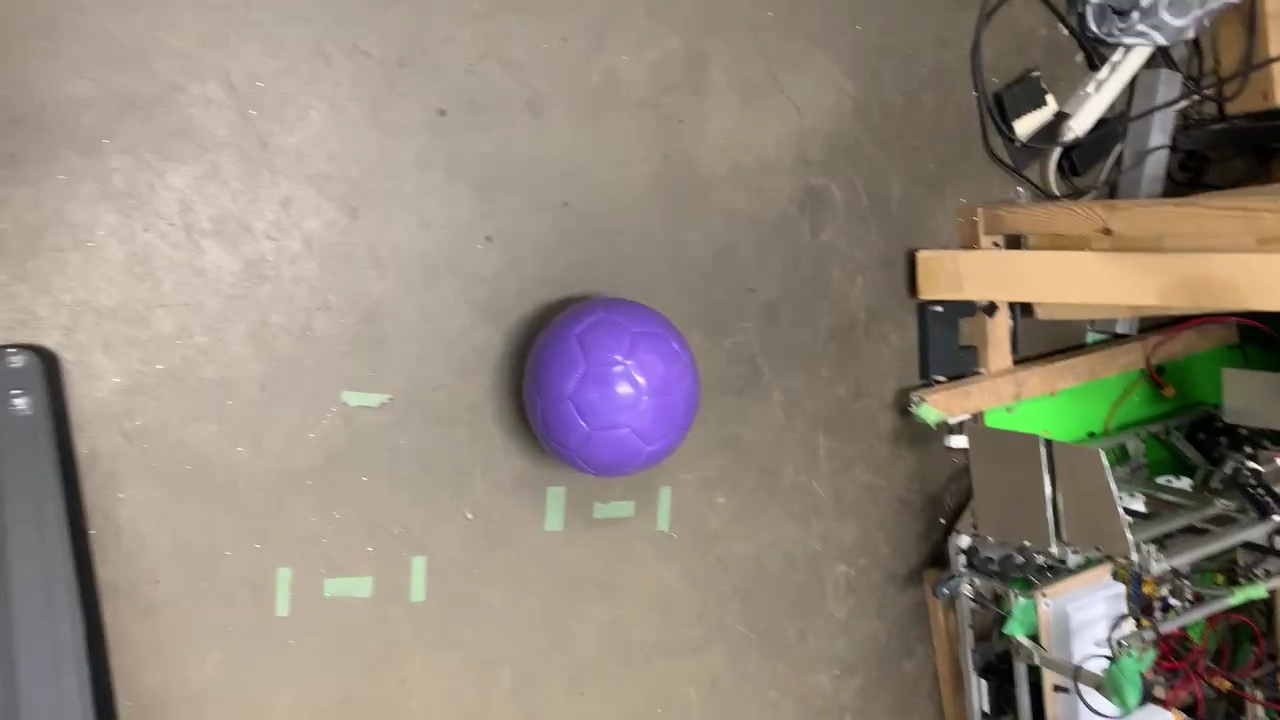purple: (520, 299, 697, 479)
